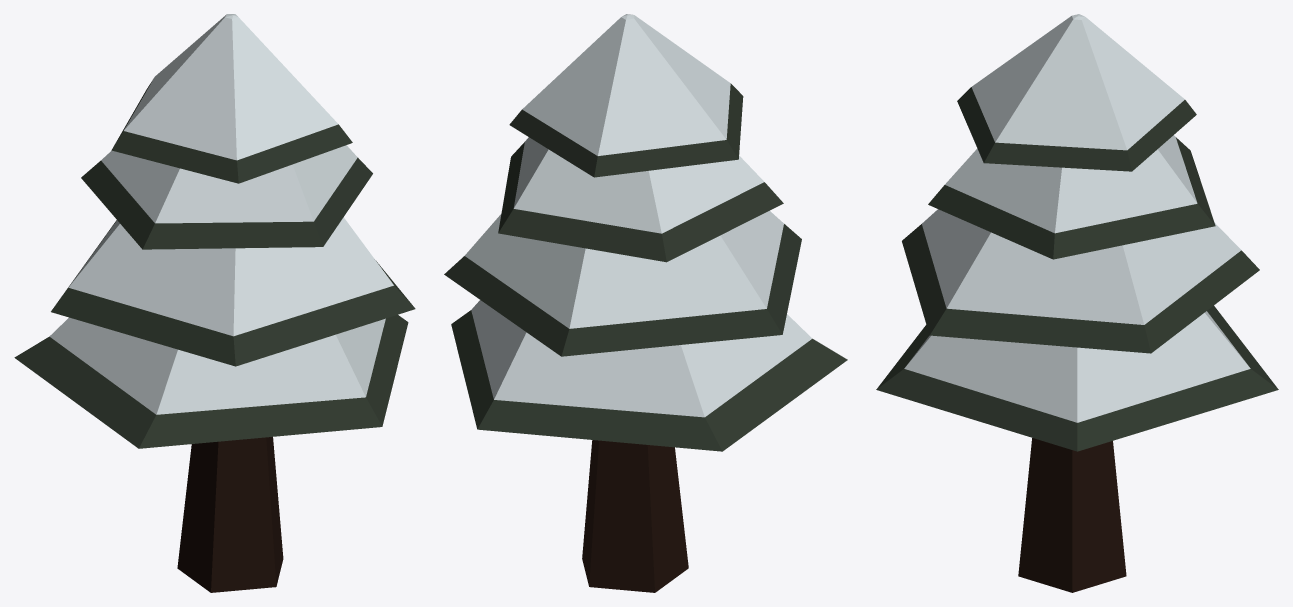
The model's file is TundraTree1.fbx.
3 renders of one model, left to right at view 1: azimuth 30°, elevation 25°; view 2: azimuth 150°, elevation 25°; view 3: azimuth 270°, elevation 25°, orthographic.
Parts seen in each view (by area): view 1: pCylinder10, pCylinder11, pCylinder13, pCylinder12, pCylinder9; view 2: pCylinder10, pCylinder11, pCylinder13, pCylinder12, pCylinder9; view 3: pCylinder11, pCylinder10, pCylinder13, pCylinder12, pCylinder9.
Part boxes in pixels (bbox=[...]): pCylinder10: bbox=[14, 315, 408, 448]; pCylinder11: bbox=[51, 217, 415, 366]; pCylinder13: bbox=[111, 14, 352, 183]; pCylinder12: bbox=[81, 145, 372, 249]; pCylinder9: bbox=[177, 437, 283, 592]; pCylinder10: bbox=[451, 300, 847, 451]; pCylinder11: bbox=[444, 210, 801, 356]; pCylinder13: bbox=[509, 14, 743, 177]; pCylinder12: bbox=[498, 137, 783, 262]; pCylinder9: bbox=[582, 440, 688, 592]; pCylinder11: bbox=[902, 209, 1259, 353]; pCylinder10: bbox=[876, 305, 1278, 451]; pCylinder13: bbox=[957, 14, 1196, 171]; pCylinder12: bbox=[928, 135, 1215, 259]; pCylinder9: bbox=[1018, 438, 1126, 592].
Bounding box in the file's own units: 5.85 × 9 × 5.94.
